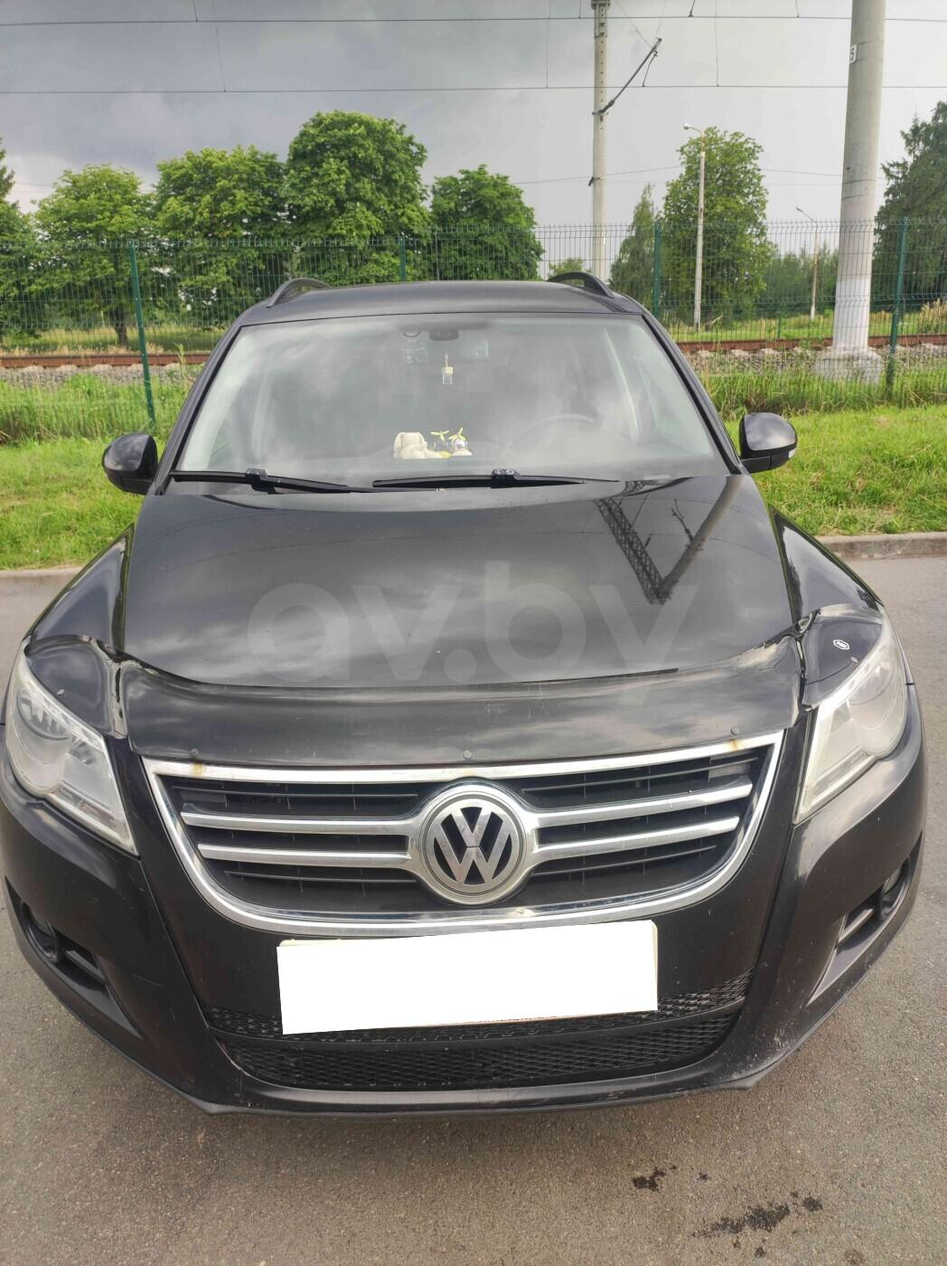Tiguan_2007-2011: (0, 279, 931, 1112)
